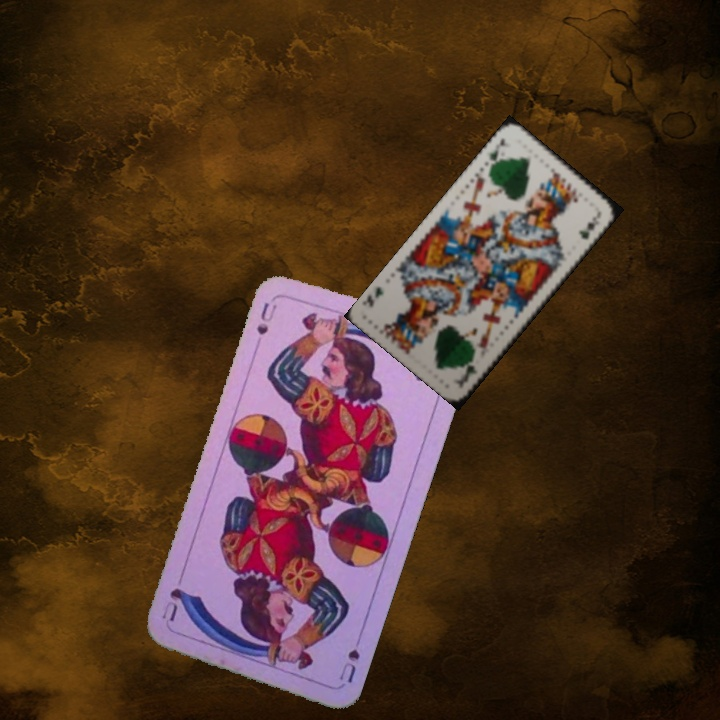GK: (485, 134, 512, 171), (458, 354, 480, 388)
SU: (252, 293, 281, 338), (335, 645, 363, 686)
